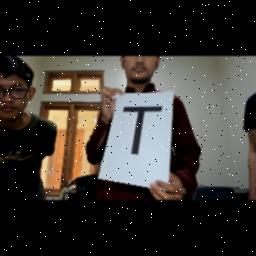t: (120, 104, 164, 158)
